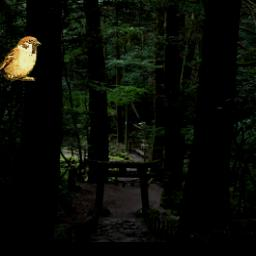Sparrow: (0, 36, 42, 82)
